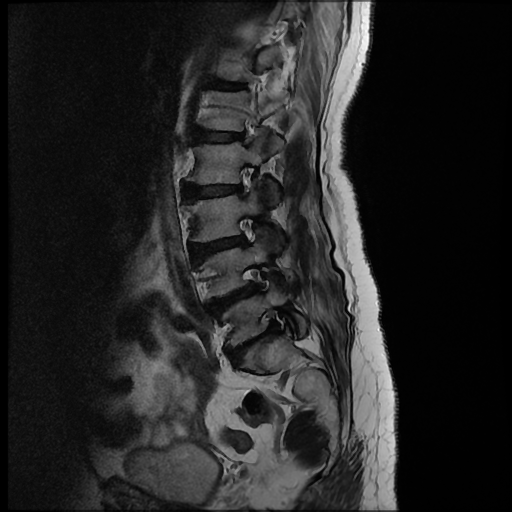RFS0: (227, 207, 274, 258), (227, 156, 270, 208)
RFS1: (237, 257, 284, 305)
